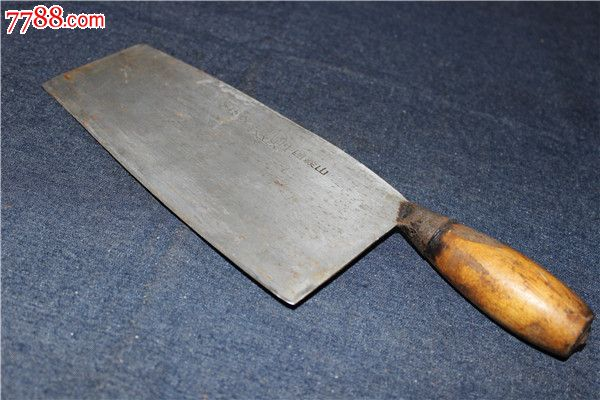knief: (47, 53, 583, 355)
